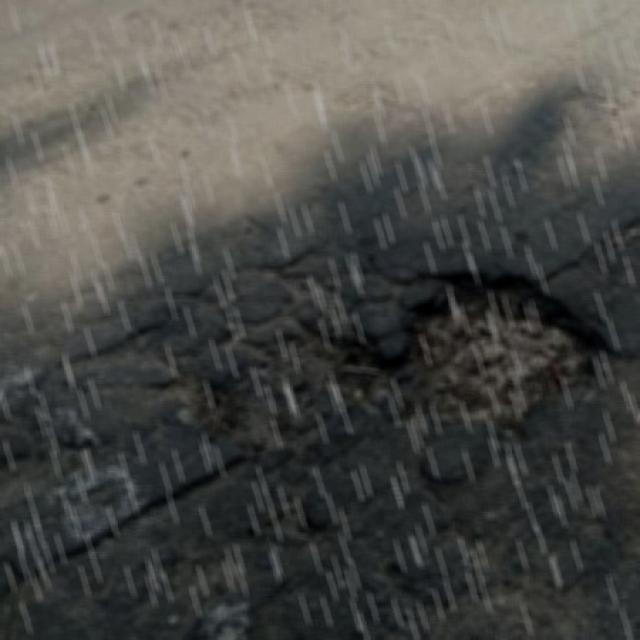road-pothole: (322, 274, 617, 447)
